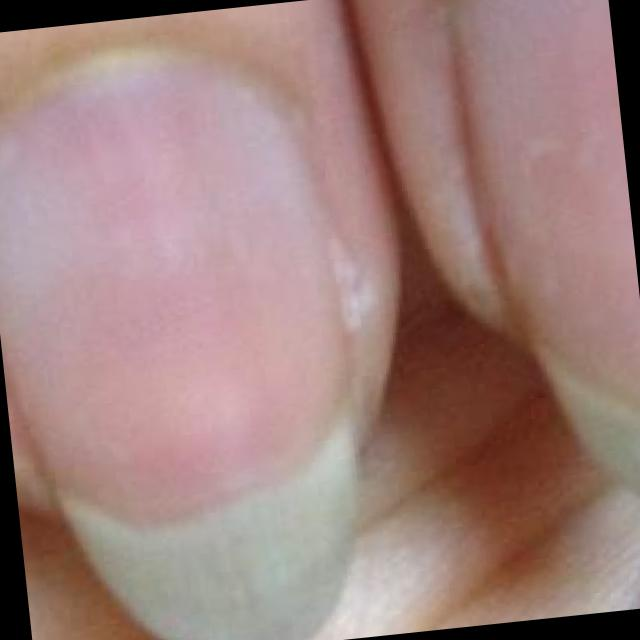Nail: (0, 64, 361, 640)
